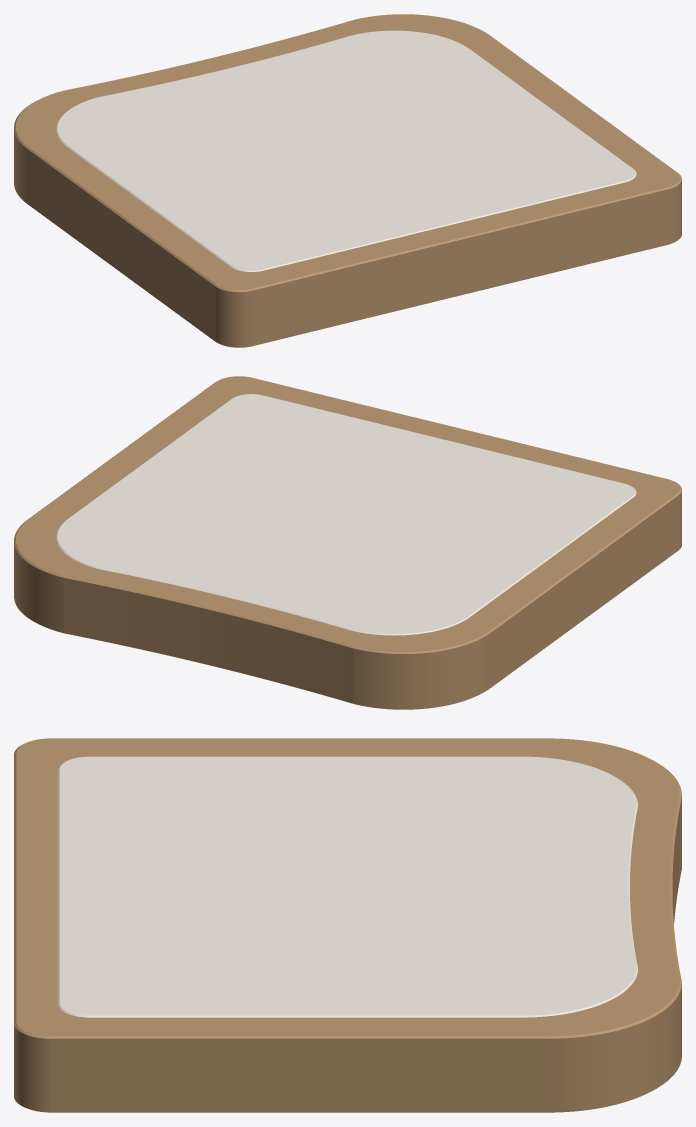
The model's file is bread_white_papercut.glb.
3 views of the same model, one above another, from view 1: azimuth 30°, elevation 25°; view 2: azimuth 150°, elevation 25°; view 3: azimuth 270°, elevation 25° (orthographic). The views are drawn at different scales.
Visible parts, largest first — view 1: bread_crumb, bread_crust; view 2: bread_crumb, bread_crust; view 3: bread_crumb, bread_crust.
Boxes of the visible parts, <box> form: bread_crumb: <box>56,30,636,271</box>; bread_crust: <box>14,14,681,347</box>; bread_crumb: <box>56,394,636,635</box>; bread_crust: <box>14,376,681,709</box>; bread_crumb: <box>57,756,637,1017</box>; bread_crust: <box>14,738,681,1112</box>.
Size of the model in its own units: 2.2 by 0.2651 by 2.07.
